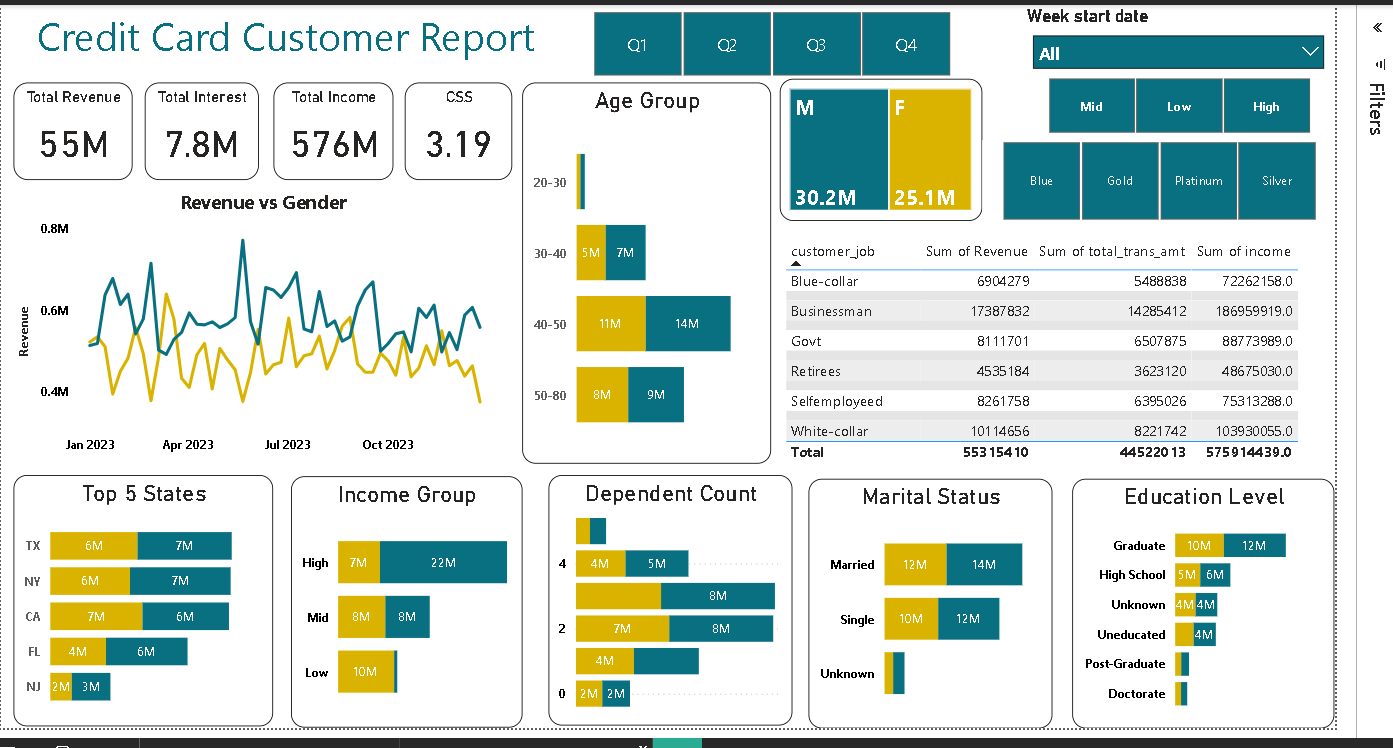

Layout of this report page (visuals, bound fields, positions):
{"tool":"powerbi","page":{"name":"Page 3","canvas":[1290,700],"ordinal":2},"visuals":[{"type":"textbox","box":[12.1,0,527.3,64.1],"z":0},{"type":"card","title":"Total Revenue","fields":{"Values":["Sum(public cc_detail.Revenue)"]},"box":[12.1,75,114.9,94.3],"z":1000},{"type":"card","title":"Total Interest","fields":{"Values":["Sum(public cc_detail.interest_earned)"]},"box":[139.1,75,110.1,94.3],"z":2000},{"type":"card","title":"Total Income","fields":{"Values":["Sum(public cust_detail.income)"]},"box":[263.7,75,116.1,94.3],"z":3000},{"type":"lineChart","title":"Revenue vs Gender","fields":{"Category":["public cc_detail.week_start_date"],"Y":["Sum(public cc_detail.Revenue)"],"Series":["public cust_detail.gender"]},"box":[12.1,177.8,482.6,266.1],"z":4000},{"type":"barChart","title":"Top 5 States","fields":{"Category":["public cust_detail.state_cd"],"Y":["Sum(public cc_detail.Revenue)"],"Series":["public cust_detail.gender"]},"box":[12.1,454.7,251.6,243.1],"z":5000},{"type":"barChart","title":"Dependent Count","fields":{"Y":["Sum(public cc_detail.Revenue)"],"Series":["public cust_detail.gender"],"Category":["public cust_detail.dependent_count"]},"box":[529.9,455.3,236.4,242.6],"z":6000},{"type":"barChart","title":"Marital Status","fields":{"Y":["Sum(public cc_detail.Revenue)"],"Series":["public cust_detail.gender"],"Category":["public cust_detail.marital_status"]},"box":[781.3,458.4,235.8,241.9],"z":7000},{"type":"slicer","fields":{"Values":["public cc_detail.qtr"]},"box":[547.9,0,394.3,75],"z":8000},{"type":"slicer","title":"Week start date","fields":{"Values":["public cc_detail.week_start_date"]},"box":[988.1,0,302.4,64.1],"z":9000},{"type":"barChart","title":"Income Group","fields":{"Category":["public cust_detail.Income Category"],"Series":["public cust_detail.gender"],"Y":["Sum(public cc_detail.Revenue)"]},"box":[280.6,455.9,223.7,243.1],"z":10000},{"type":"card","title":"CSS","fields":{"Values":["Avg(public cust_detail.cust_satisfaction_score)"]},"box":[390.6,75,104,94.3],"z":11000},{"type":"barChart","title":"Age Group","fields":{"Category":["public cust_detail.Age Group"],"Y":["Sum(public cc_detail.Revenue)"],"Series":["public cust_detail.gender"]},"box":[504.3,75,240.7,368.9],"z":12000},{"type":"slicer","fields":{"Values":["public cust_detail.Income Category"]},"box":[988.1,64.1,302.4,66.5],"z":13000},{"type":"tableEx","fields":{"Values":["public cust_detail.customer_job","Sum(public cc_detail.Revenue)","Sum(public cc_detail.total_trans_amt)","Sum(public cust_detail.income)"]},"box":[753.5,222.5,537,232.2],"z":14000},{"type":"treemap","fields":{"Values":["Sum(public cc_detail.Revenue)"],"Group":["public cust_detail.gender"]},"box":[753.5,71.4,195.9,137.9],"z":15000},{"type":"slicer","fields":{"Values":["public cc_detail.Card_Category"]},"box":[949.4,130.6,341.1,78.6],"z":16000},{"type":"barChart","title":"Education Level","fields":{"Category":["public cust_detail.education_level"],"Y":["Sum(public cc_detail.Revenue)"],"Series":["public cust_detail.gender"]},"box":[1036.5,458.4,254,241.9],"z":17000}]}

Visuals, with their boxes on the page's 1290x700 design canvas (x1, y1, x2, y2). These are canvas units, not pixel positions in the 1393x748 screenshot, which may show the page scaled, cropped or inside an application window:
textbox: (x1=12, y1=0, x2=539, y2=64)
"Total Revenue" card: (x1=12, y1=75, x2=127, y2=169)
"Total Interest" card: (x1=139, y1=75, x2=249, y2=169)
"Total Income" card: (x1=264, y1=75, x2=380, y2=169)
"Revenue vs Gender" lineChart: (x1=12, y1=178, x2=495, y2=444)
"Top 5 States" barChart: (x1=12, y1=455, x2=264, y2=698)
"Dependent Count" barChart: (x1=530, y1=455, x2=766, y2=698)
"Marital Status" barChart: (x1=781, y1=458, x2=1017, y2=700)
slicer - public cc_detail.qtr: (x1=548, y1=0, x2=942, y2=75)
"Week start date" slicer: (x1=988, y1=0, x2=1290, y2=64)
"Income Group" barChart: (x1=281, y1=456, x2=504, y2=699)
"CSS" card: (x1=391, y1=75, x2=495, y2=169)
"Age Group" barChart: (x1=504, y1=75, x2=745, y2=444)
slicer - public cust_detail.Income Category: (x1=988, y1=64, x2=1290, y2=131)
tableEx - public cust_detail.customer_job x Sum(public cc_detail.Revenue): (x1=754, y1=222, x2=1290, y2=455)
treemap - Sum(public cc_detail.Revenue) x public cust_detail.gender: (x1=754, y1=71, x2=949, y2=209)
slicer - public cc_detail.Card_Category: (x1=949, y1=131, x2=1290, y2=209)
"Education Level" barChart: (x1=1036, y1=458, x2=1290, y2=700)
